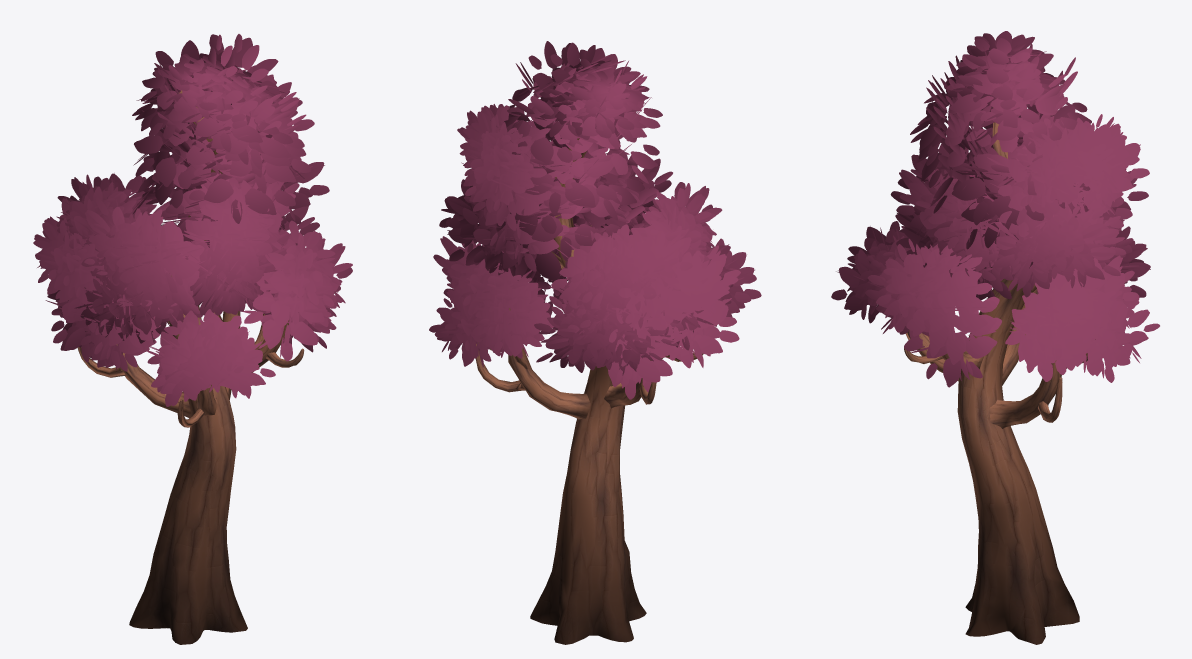
The model's file is arv_cerejeira.glb.
3 views of the same model, side by side, from view 1: azimuth 30°, elevation 25°; view 2: azimuth 150°, elevation 25°; view 3: azimuth 270°, elevation 25° (orthographic). The views are drawn at different scales.
Visible parts, largest first — view 1: CommonTree_2; view 2: CommonTree_2; view 3: CommonTree_2.
Part boxes in pixels (x1,y1,x2,y2): CommonTree_2: (33, 34, 352, 644); CommonTree_2: (429, 41, 761, 644); CommonTree_2: (831, 31, 1159, 644).
Size of the model in its own units: 4.46 by 7.64 by 4.28.
Materials: 2 (2 with a texture image).
